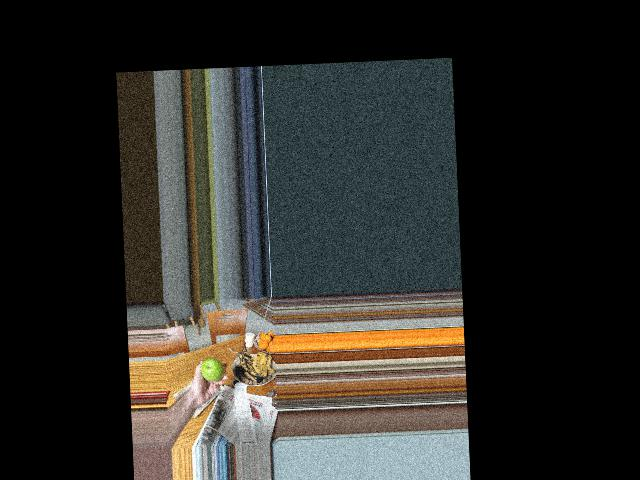apple: (200, 356, 225, 383)
